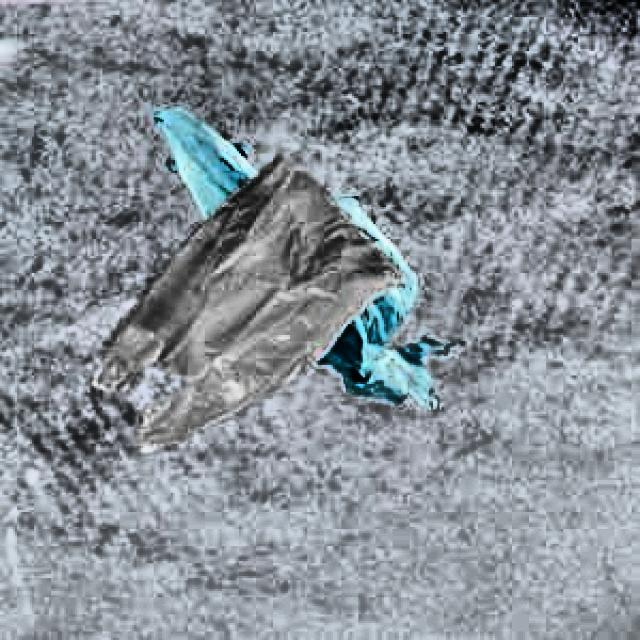Plastic: (134, 73, 483, 447), (79, 150, 405, 467)
